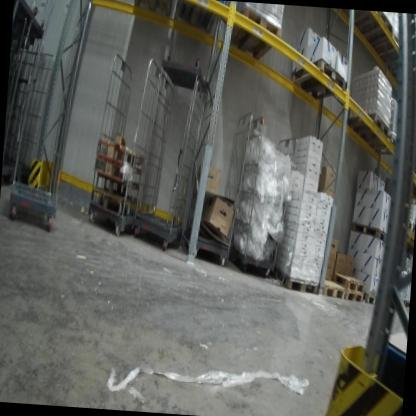pallet: (229, 6, 286, 63), (290, 55, 348, 104), (170, 0, 224, 41), (86, 186, 141, 222), (351, 12, 396, 54), (93, 153, 144, 188), (94, 138, 144, 172), (93, 167, 141, 202), (344, 110, 389, 145), (276, 263, 323, 293), (131, 0, 179, 25), (351, 220, 392, 246), (378, 32, 410, 64), (371, 132, 403, 160), (334, 269, 368, 293), (319, 272, 347, 300), (364, 287, 383, 311), (343, 292, 365, 310)
